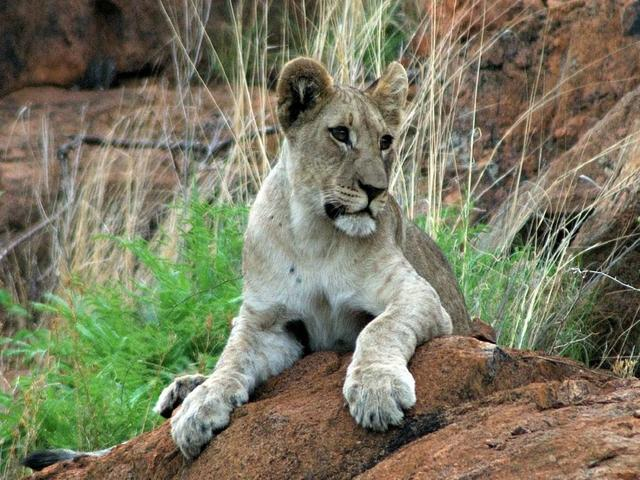lion: (146, 23, 481, 434)
